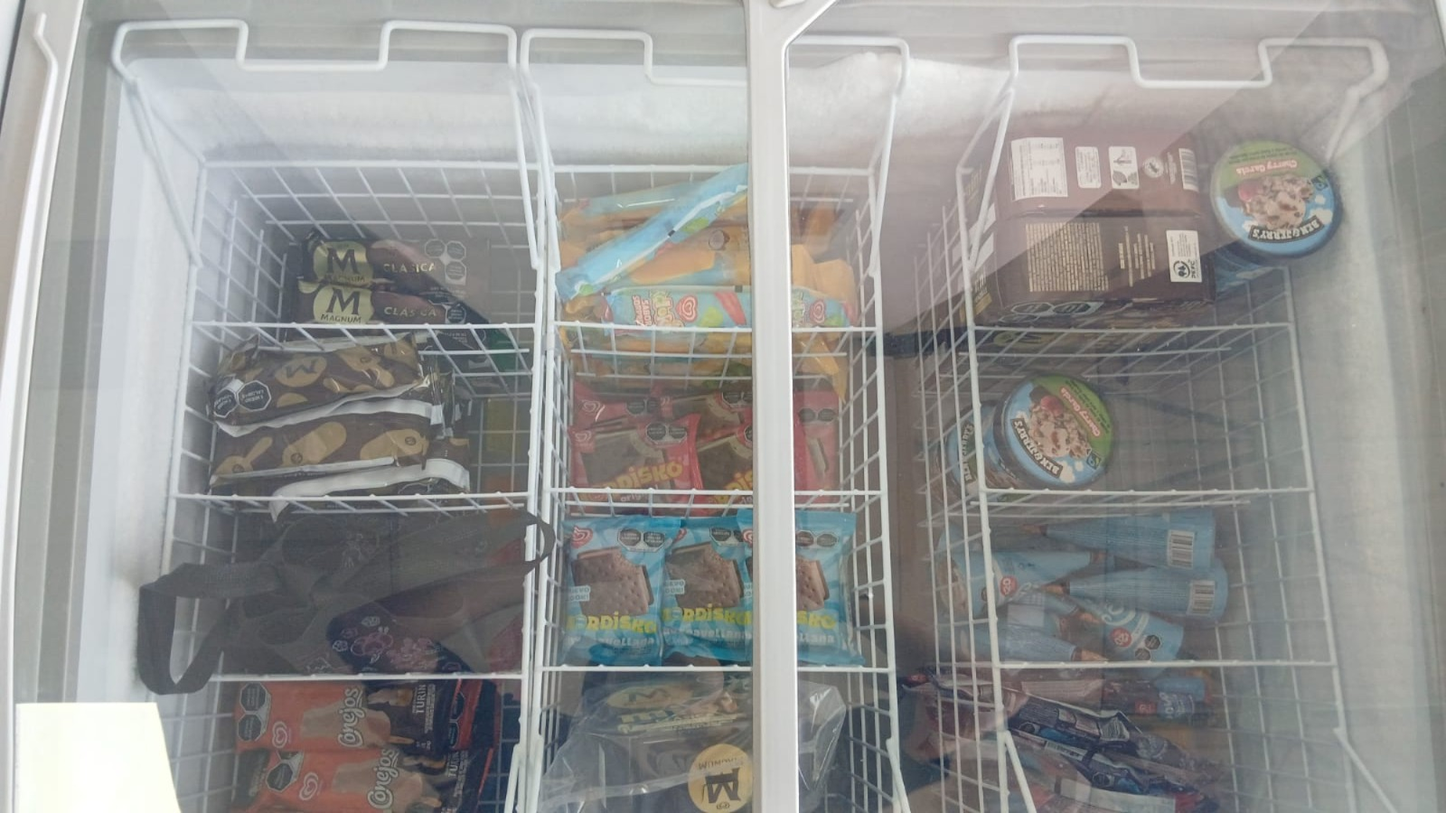rejilla: (1285, 270, 1347, 739), (875, 262, 898, 757), (163, 263, 195, 574), (958, 172, 982, 482), (980, 484, 1004, 732), (527, 564, 546, 809), (529, 174, 542, 513), (544, 248, 558, 521), (518, 575, 531, 812), (555, 322, 751, 331), (213, 674, 519, 679), (1109, 324, 1290, 332), (197, 323, 534, 327), (316, 493, 527, 499), (208, 163, 518, 167), (550, 489, 752, 494), (556, 166, 726, 171), (1153, 489, 1311, 494), (196, 170, 206, 242), (988, 490, 1151, 494), (541, 667, 751, 670), (1000, 663, 1197, 666), (1345, 756, 1355, 812), (1000, 744, 1006, 812), (799, 668, 890, 672), (791, 169, 866, 173), (176, 495, 251, 499), (1198, 663, 1332, 665), (871, 178, 876, 221), (527, 527, 533, 560), (796, 492, 881, 494), (793, 329, 876, 331), (974, 327, 1029, 330), (1030, 329, 1107, 331), (251, 498, 316, 500), (541, 537, 543, 552), (528, 165, 537, 168)
